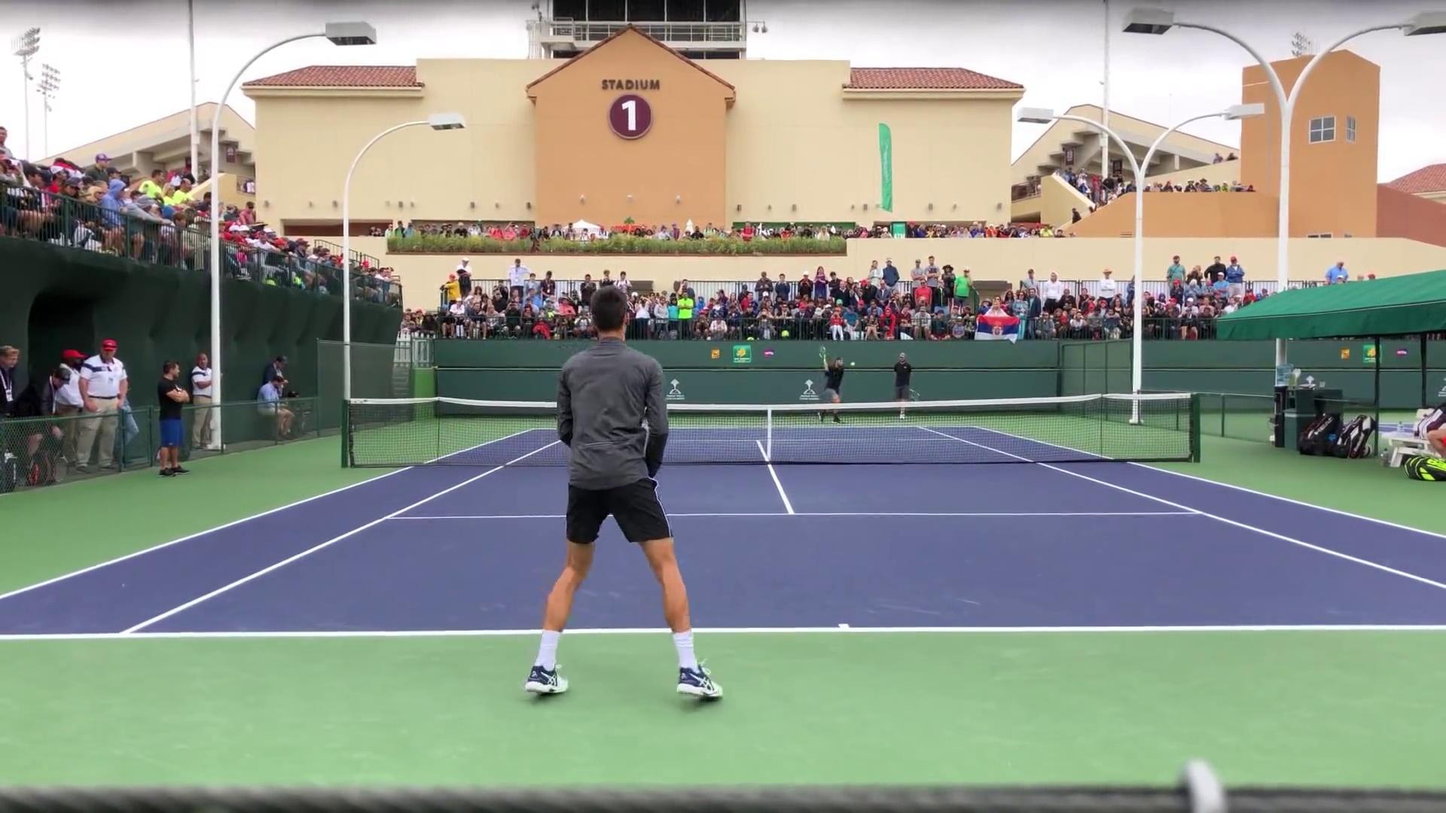ball: (849, 361, 857, 367)
